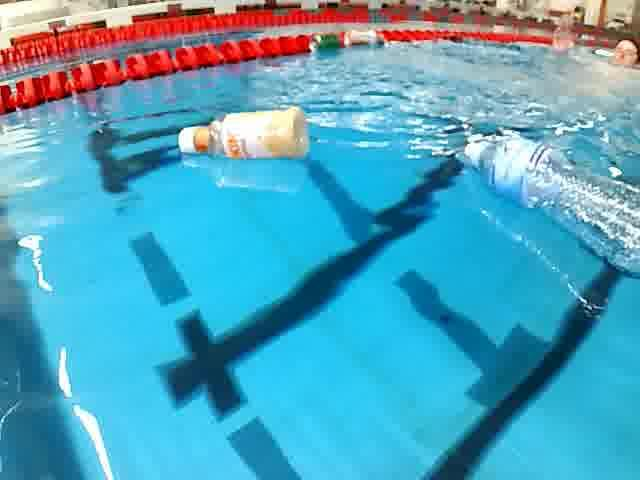Bottle: (459, 128, 640, 268), (176, 102, 322, 170)
Can: (302, 33, 340, 52)
